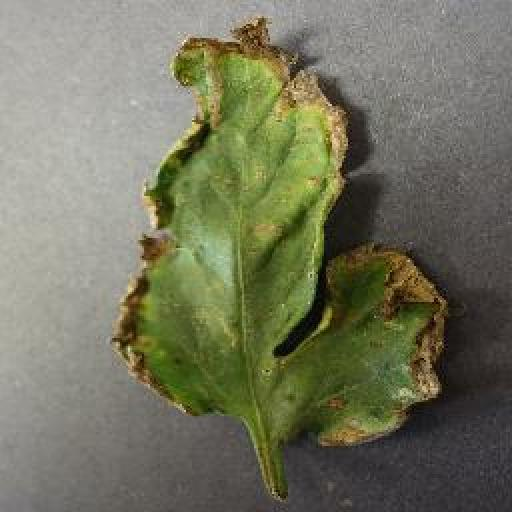Bacterial Spot: (109, 14, 455, 454)
